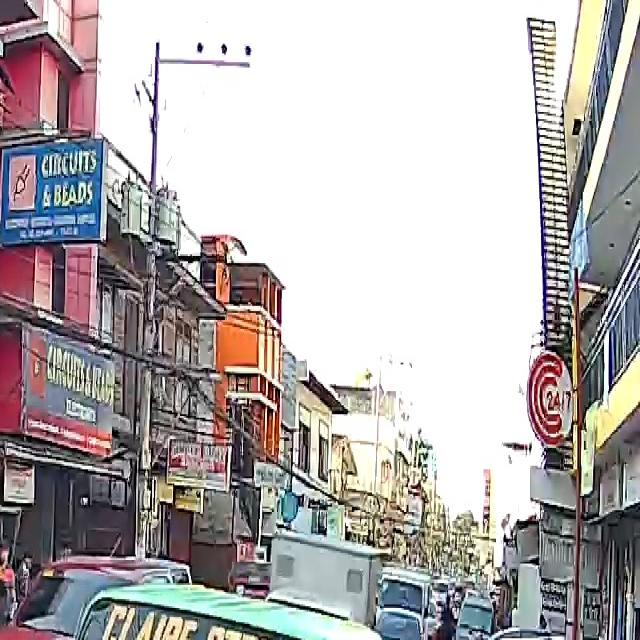car: (0, 554, 195, 640), (376, 597, 426, 640), (467, 634, 640, 640)
